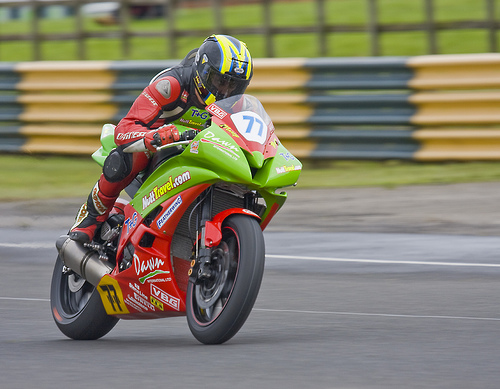helmet: (194, 34, 258, 105)
